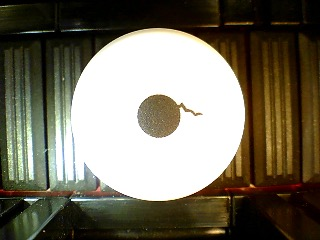CRACK: (70, 27, 246, 202)
